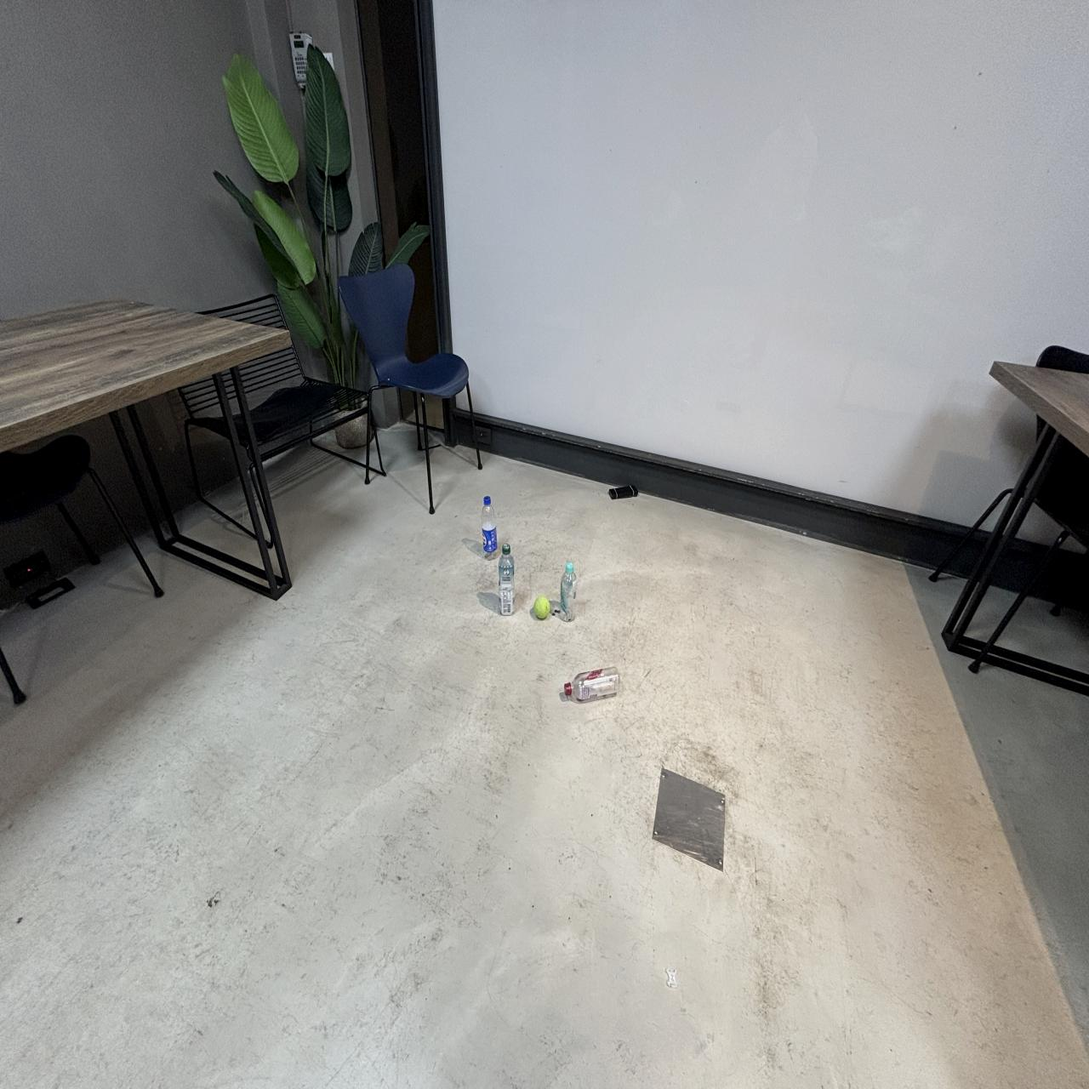plastic-bottle: (499, 544, 514, 615), (560, 562, 576, 621), (482, 497, 497, 558)
tennisball: (533, 596, 550, 619)
